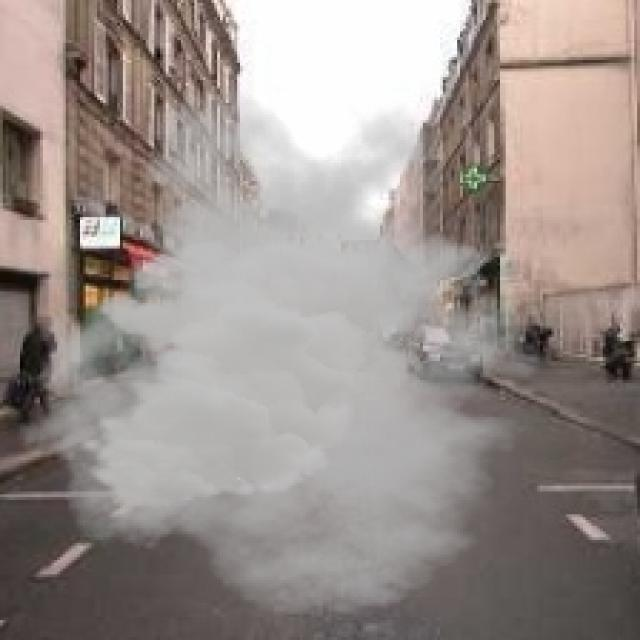Smoke: (17, 85, 580, 618)
